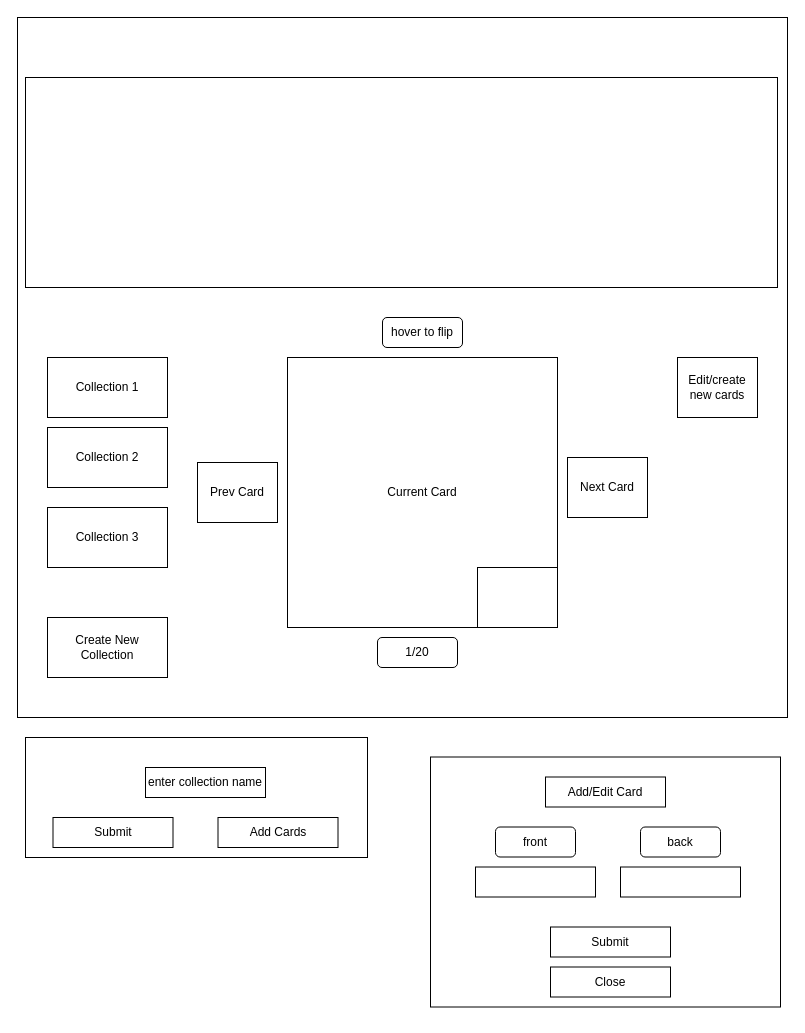
Image size: 805x1033. Some labels were removed from this diagram. The box of each missing label's shape, as (x1, y1, x2, y2) in pixels:
Edit Card: (476, 566, 558, 628)
Hero Bar: (24, 76, 778, 288)
